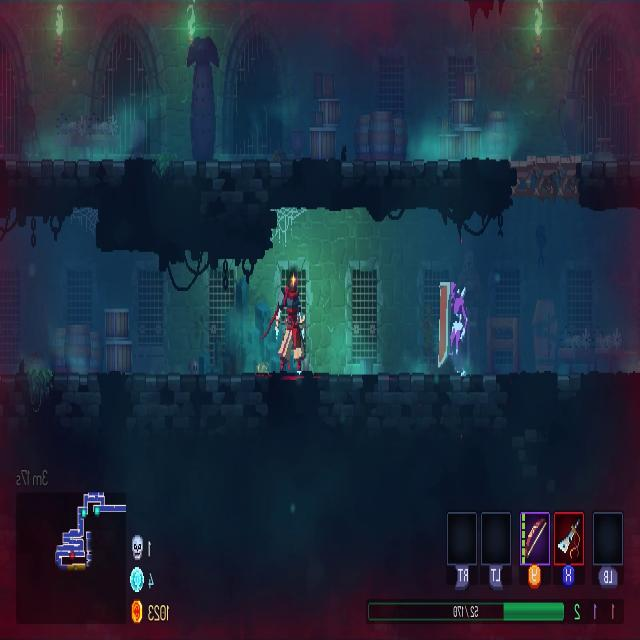agents: (272, 273, 304, 375)
enemy_purple_shield: (434, 280, 466, 376)
wood_floor: (508, 147, 581, 203)
